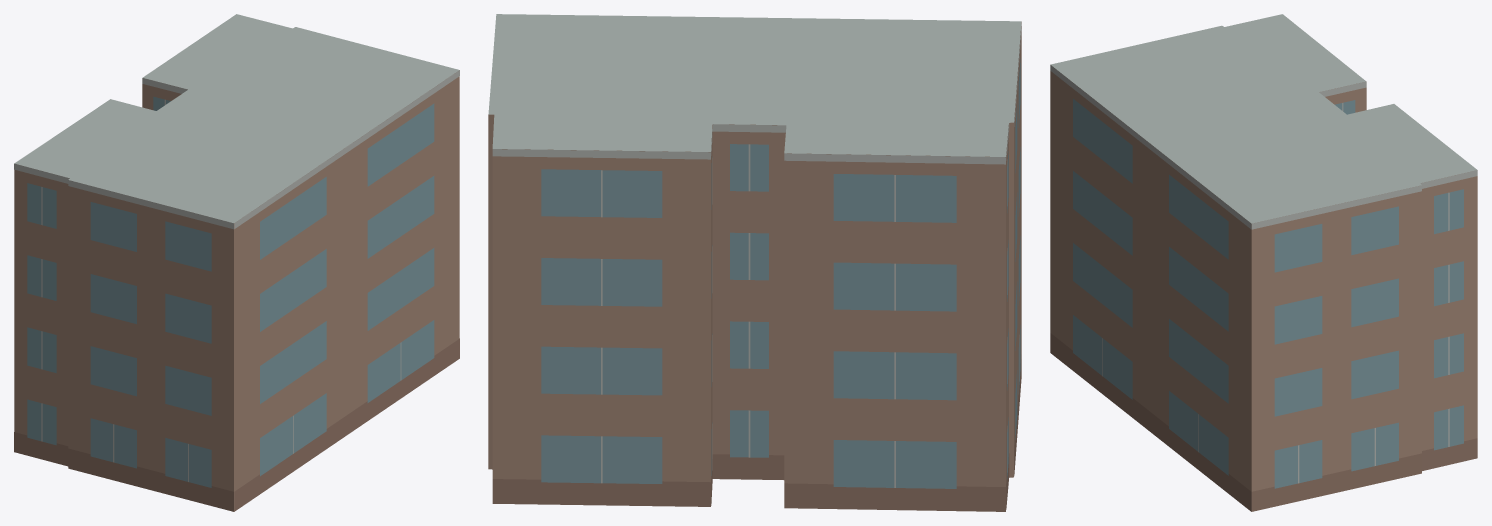
File: survey-upis-32831108.glb
3 views of the same model, side by side, from view 1: azimuth 30°, elevation 25°; view 2: azimuth 150°, elevation 25°; view 3: azimuth 270°, elevation 25° (orthographic). The views are drawn at different scales.
Visible parts, largest first — view 1: survey-upis-32831108.tmp; view 2: survey-upis-32831108.tmp; view 3: survey-upis-32831108.tmp.
Boxes of the visible parts, x1=… form: survey-upis-32831108.tmp: x1=14, y1=14, x2=459, y2=511; survey-upis-32831108.tmp: x1=488, y1=14, x2=1021, y2=511; survey-upis-32831108.tmp: x1=1050, y1=14, x2=1477, y2=511.
Bounding box in the file's own units: 18.1 × 11.6 × 15.6.
